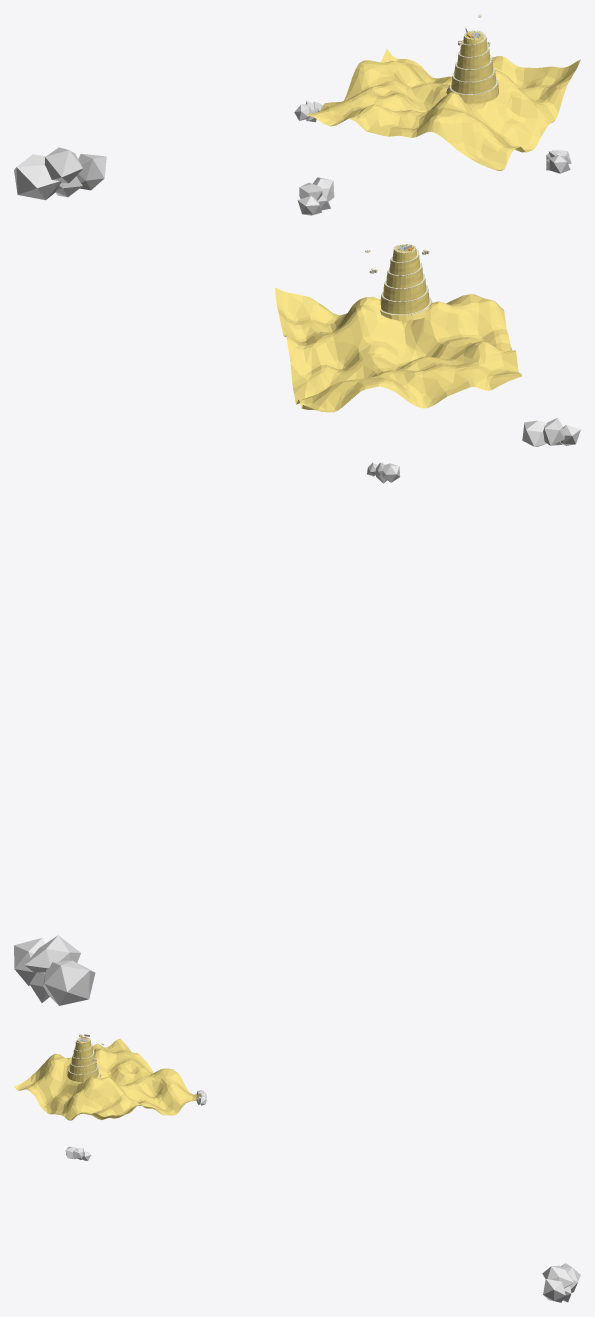
The model's file is OpeningSceneShoptop.fbx.
3 views of the same model, one above another, from view 1: azimuth 30°, elevation 25°; view 2: azimuth 150°, elevation 25°; view 3: azimuth 270°, elevation 25° (orthographic). The views are drawn at different scales.
Parts seen in each view (by area): view 1: Plane, cloud4, mountain, cloud2, cloud1, cloud3; view 2: Plane, cloud4, mountain, cloud2; view 3: Plane, cloud4, mountain.
Part boxes in pixels (bbox=[...]): Plane: bbox=[306, 49, 580, 170]; cloud4: bbox=[14, 147, 106, 200]; mountain: bbox=[446, 30, 498, 103]; cloud2: bbox=[297, 177, 334, 215]; cloud1: bbox=[546, 150, 571, 173]; cloud3: bbox=[294, 100, 322, 122]; Plane: bbox=[275, 287, 521, 412]; cloud4: bbox=[14, 935, 95, 1005]; mountain: bbox=[380, 244, 432, 320]; cloud2: bbox=[522, 418, 580, 446]; Plane: bbox=[14, 1038, 200, 1120]; cloud4: bbox=[542, 1263, 580, 1302]; mountain: bbox=[67, 1037, 101, 1082].
Size of the model in its own units: 34013 by 50015 by 92745.
